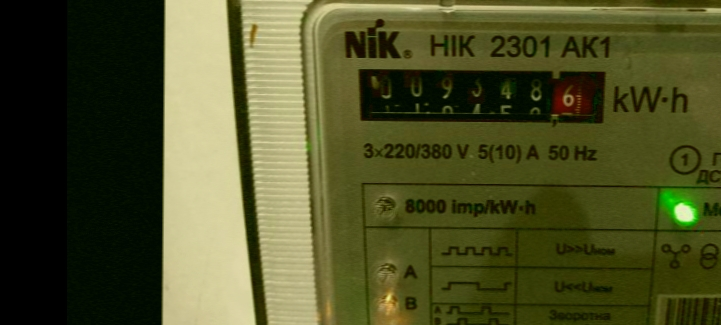0: (377, 76, 394, 102), (408, 73, 423, 100)
3: (469, 75, 484, 100)
4: (496, 73, 515, 103)
6: (559, 82, 577, 111)
8: (528, 76, 544, 104)
9: (439, 77, 454, 104)
screen: (340, 56, 619, 136)
